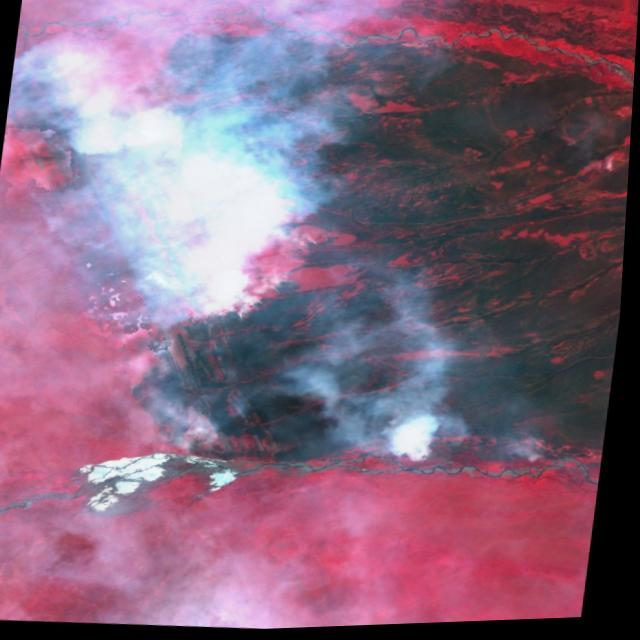fire: (93, 15, 355, 485), (376, 413, 469, 476)
